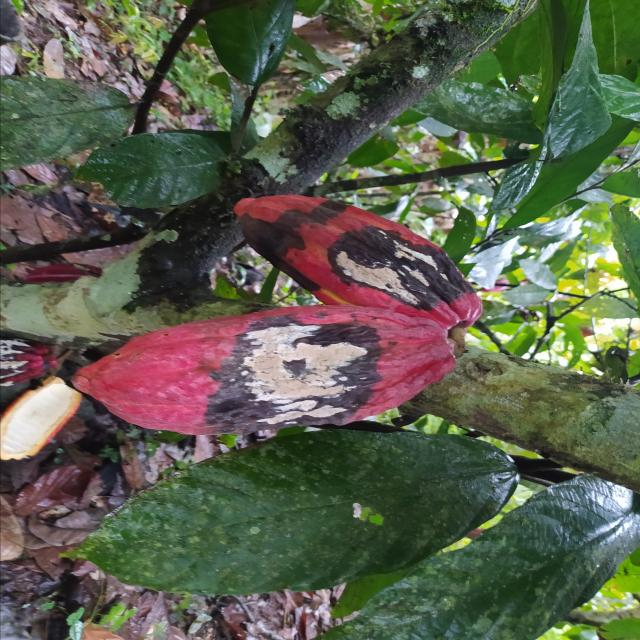Monilia: (67, 307, 464, 431), (235, 194, 475, 322)
